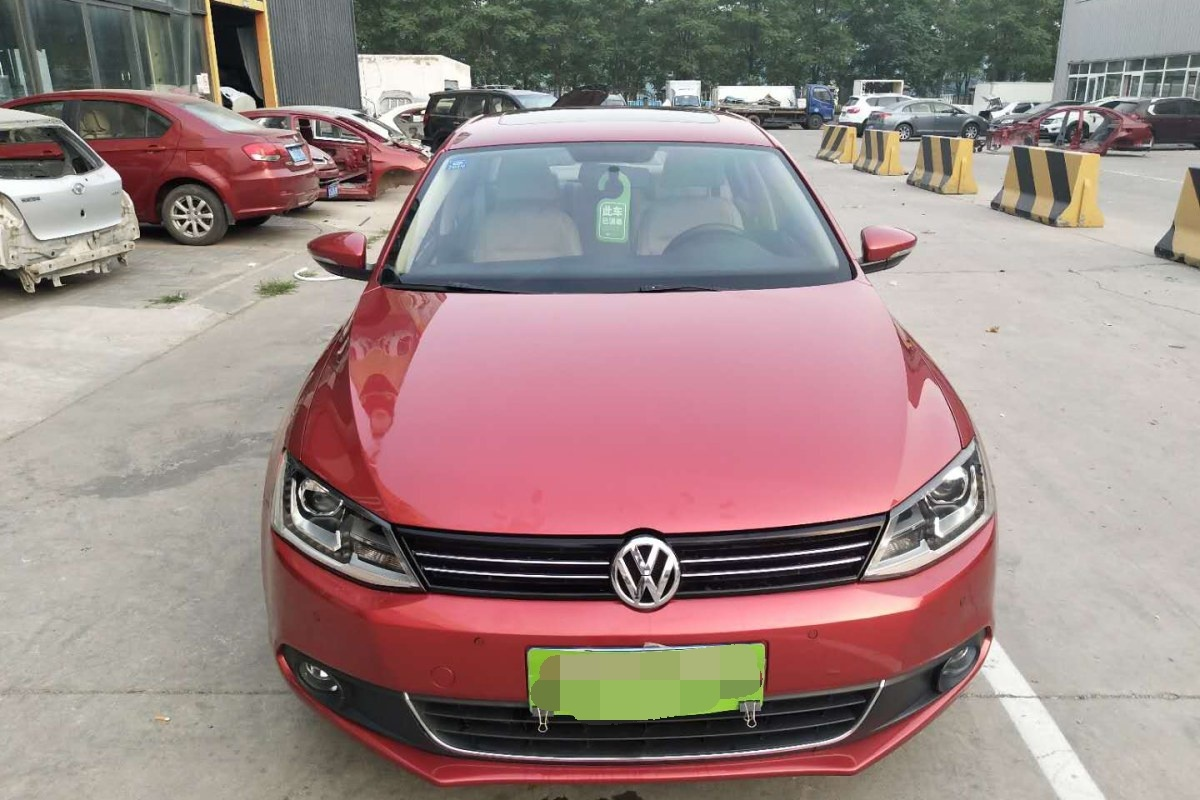family sedan: (293, 99, 1005, 800), (10, 58, 299, 236)
